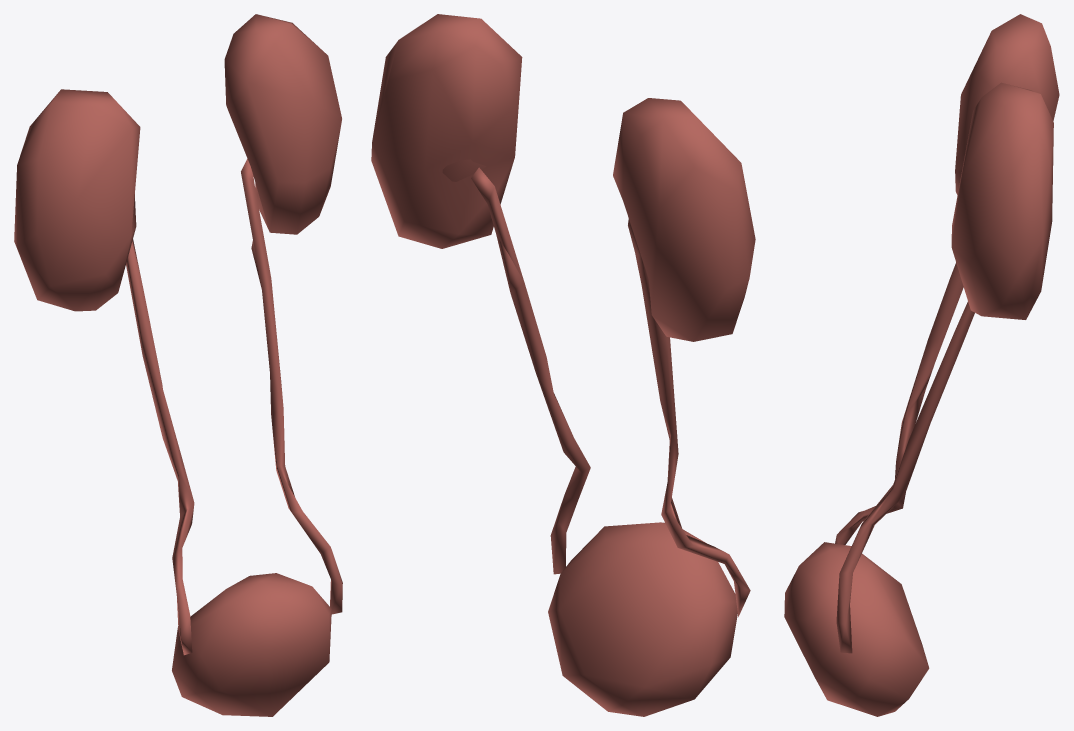
Rendered from pediatric_adolescent_female.urinary.LOD3.glb.
3 renders of one model, left to right at view 1: azimuth 30°, elevation 25°; view 2: azimuth 150°, elevation 25°; view 3: azimuth 270°, elevation 25°, orthographic. The views are drawn at different scales.
Visible parts, largest first — view 1: PEDIATRIC.ADOLESCENT.FEMALE.URINARY.KIDNEY_CORTEX.R, PEDIATRIC.ADOLESCENT.FEMALE.URINARY.KIDNEY_CORTEX.L, PEDIATRIC.ADOLESCENT.FEMALE.URINARY.URINARY_BLADDER_WALL, PEDIATRIC.ADOLESCENT.FEMALE.URINARY.URETER.L, PEDIATRIC.ADOLESCENT.FEMALE.URINARY.URETER.R; view 2: PEDIATRIC.ADOLESCENT.FEMALE.URINARY.URINARY_BLADDER_WALL, PEDIATRIC.ADOLESCENT.FEMALE.URINARY.KIDNEY_CORTEX.L, PEDIATRIC.ADOLESCENT.FEMALE.URINARY.KIDNEY_CORTEX.R, PEDIATRIC.ADOLESCENT.FEMALE.URINARY.URETER.L, PEDIATRIC.ADOLESCENT.FEMALE.URINARY.URETER.R; view 3: PEDIATRIC.ADOLESCENT.FEMALE.URINARY.KIDNEY_CORTEX.L, PEDIATRIC.ADOLESCENT.FEMALE.URINARY.URINARY_BLADDER_WALL, PEDIATRIC.ADOLESCENT.FEMALE.URINARY.KIDNEY_CORTEX.R, PEDIATRIC.ADOLESCENT.FEMALE.URINARY.URETER.L, PEDIATRIC.ADOLESCENT.FEMALE.URINARY.URETER.R.
Part boxes in pixels (x1,y1,x2,y2): PEDIATRIC.ADOLESCENT.FEMALE.URINARY.KIDNEY_CORTEX.R: (14, 89, 140, 311); PEDIATRIC.ADOLESCENT.FEMALE.URINARY.KIDNEY_CORTEX.L: (224, 14, 341, 234); PEDIATRIC.ADOLESCENT.FEMALE.URINARY.URINARY_BLADDER_WALL: (172, 573, 331, 716); PEDIATRIC.ADOLESCENT.FEMALE.URINARY.URETER.L: (241, 159, 342, 614); PEDIATRIC.ADOLESCENT.FEMALE.URINARY.URETER.R: (126, 239, 194, 655); PEDIATRIC.ADOLESCENT.FEMALE.URINARY.URINARY_BLADDER_WALL: (548, 522, 737, 716); PEDIATRIC.ADOLESCENT.FEMALE.URINARY.KIDNEY_CORTEX.L: (371, 14, 522, 248); PEDIATRIC.ADOLESCENT.FEMALE.URINARY.KIDNEY_CORTEX.R: (613, 98, 755, 341); PEDIATRIC.ADOLESCENT.FEMALE.URINARY.URETER.L: (471, 167, 590, 574); PEDIATRIC.ADOLESCENT.FEMALE.URINARY.URETER.R: (628, 219, 750, 616); PEDIATRIC.ADOLESCENT.FEMALE.URINARY.KIDNEY_CORTEX.L: (951, 82, 1053, 319); PEDIATRIC.ADOLESCENT.FEMALE.URINARY.URINARY_BLADDER_WALL: (784, 542, 929, 716); PEDIATRIC.ADOLESCENT.FEMALE.URINARY.KIDNEY_CORTEX.R: (955, 14, 1059, 194); PEDIATRIC.ADOLESCENT.FEMALE.URINARY.URETER.L: (836, 302, 974, 653); PEDIATRIC.ADOLESCENT.FEMALE.URINARY.URETER.R: (835, 262, 963, 544).
Bounding box in the file's own units: 0.1722 × 0.3176 × 0.12.
